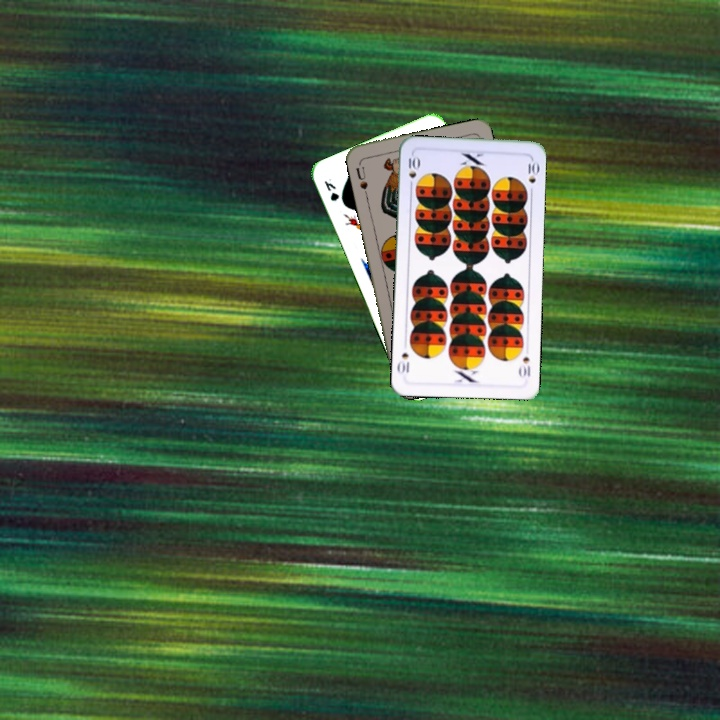GK: (320, 174, 342, 204)
S10: (405, 151, 421, 191), (515, 353, 533, 380)
SU: (352, 159, 370, 199)
